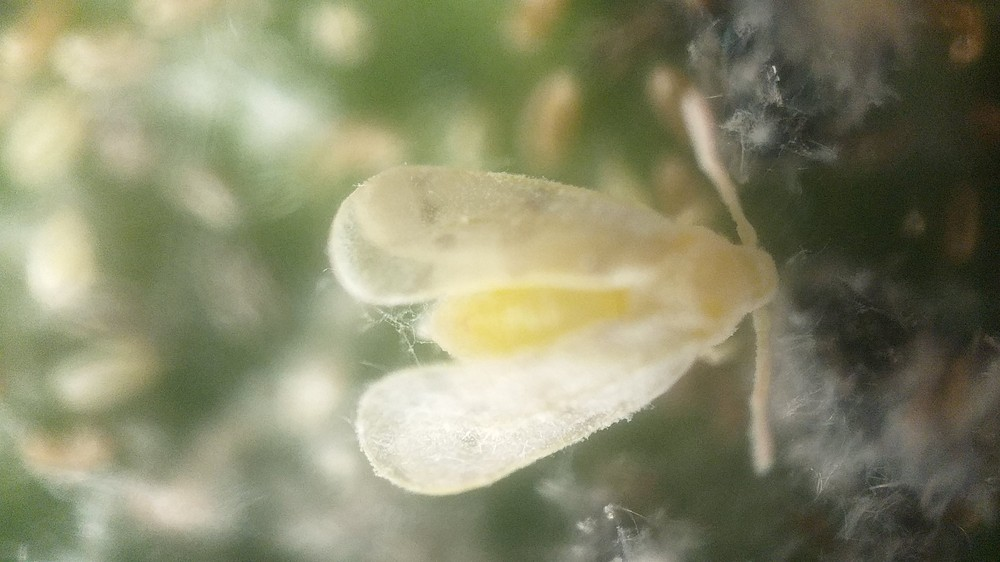Mosca Blanca: (309, 80, 806, 525)
